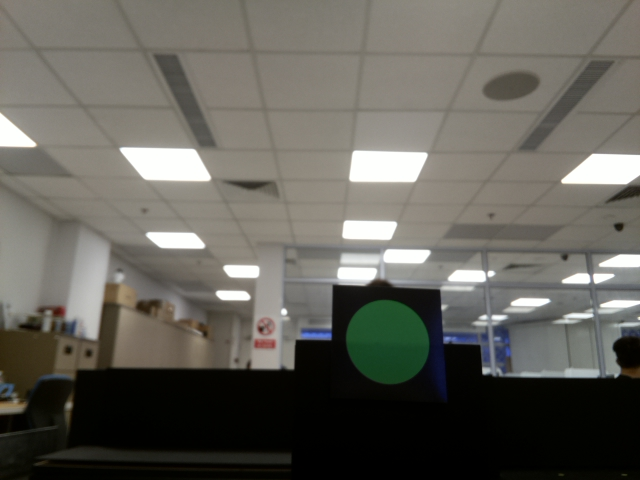go: (341, 298, 433, 386)
